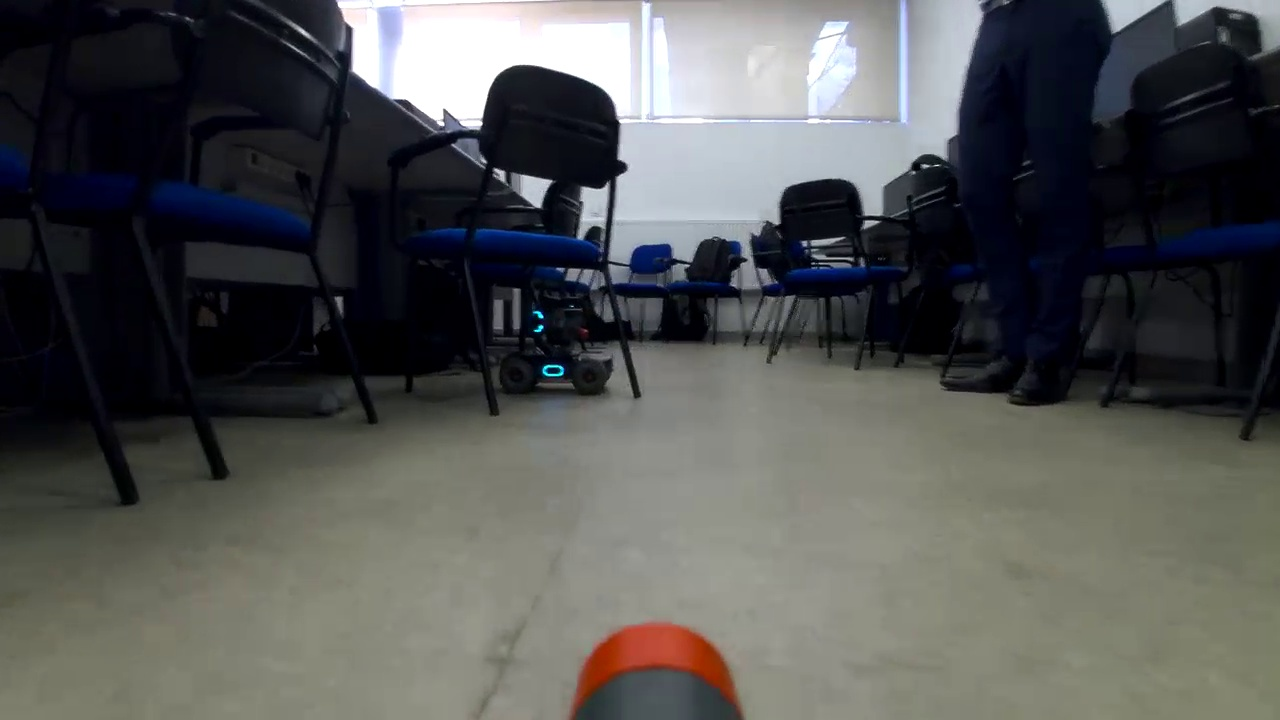robot: (496, 290, 624, 397)
